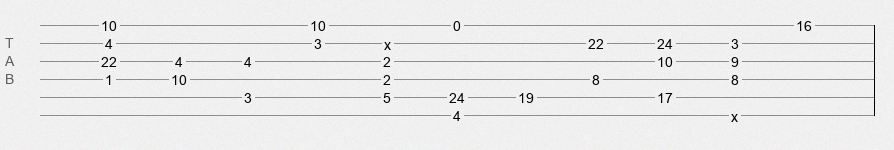0: (453, 18, 461, 28)
1: (105, 72, 113, 82)
10: (101, 18, 117, 28), (171, 72, 187, 82), (310, 18, 326, 28), (657, 54, 673, 64)
16: (796, 18, 812, 28)
17: (657, 90, 673, 100)
19: (518, 90, 534, 100)
2: (383, 72, 391, 82), (383, 54, 391, 64)
22: (101, 54, 117, 64), (588, 36, 604, 46)
24: (449, 90, 465, 100), (657, 36, 673, 46)
3: (244, 90, 252, 100), (314, 36, 322, 46), (731, 36, 739, 46)
4: (105, 36, 113, 46), (175, 54, 183, 64), (244, 54, 252, 64), (453, 108, 461, 118)
5: (383, 90, 391, 100)
8: (592, 72, 600, 82), (731, 72, 739, 82)
9: (731, 54, 739, 64)
x: (384, 37, 391, 45), (731, 109, 738, 117)
